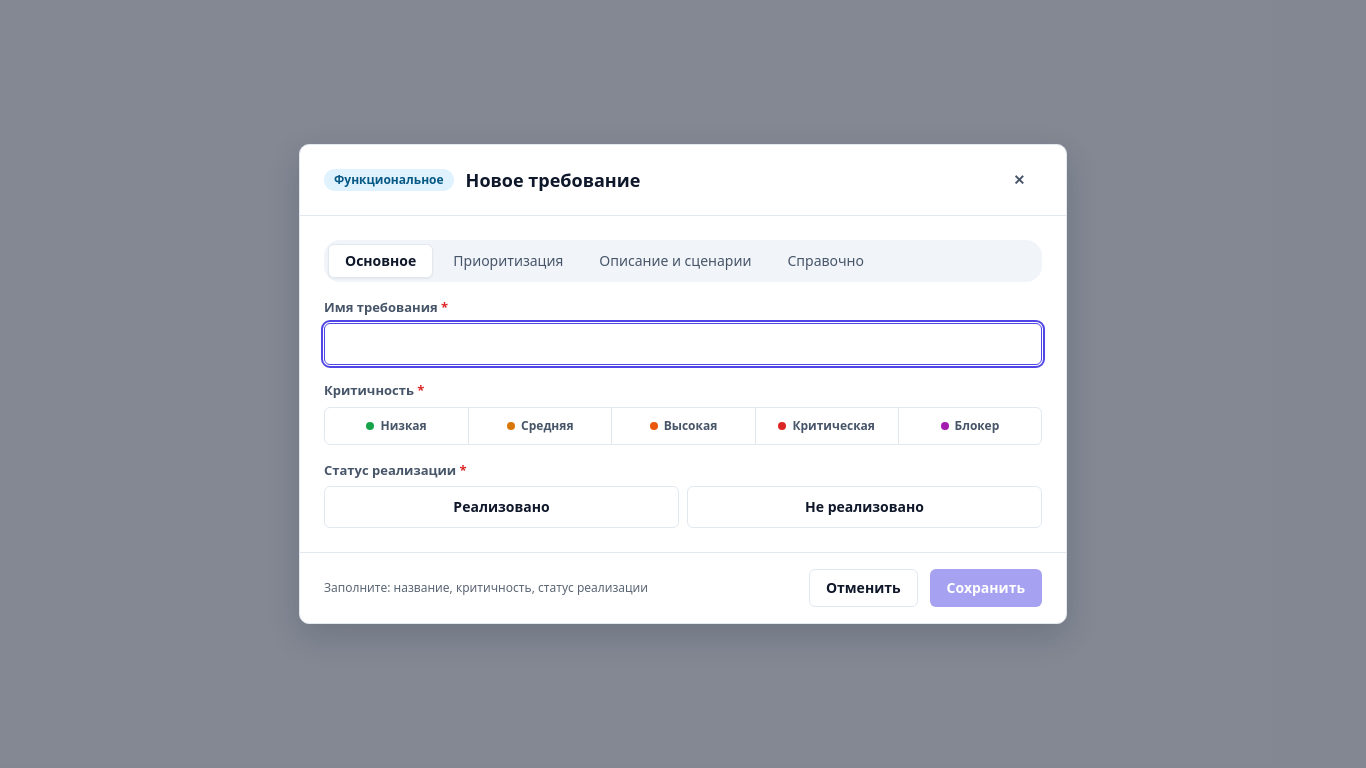
Test: RequirementModal (T-1106, FR-6) › FR-21 · noDefaultCriticality=true (Save button behaviour) › Save enabled only after name + criticality + implemented are all filled
This screenshot has width=1366, height=768.
Type "Дочернее требование" into the field with test id "req-name" at (683, 344), box [324,323,1042,365]
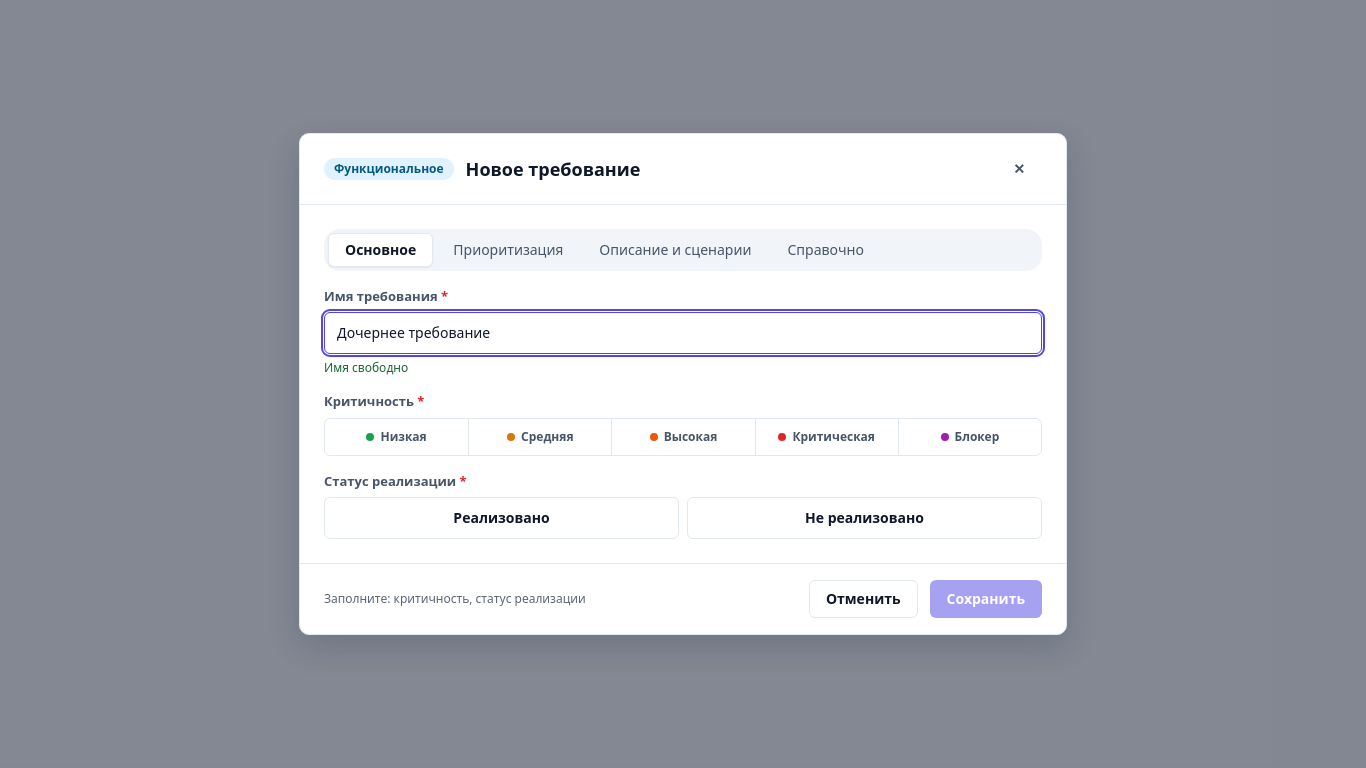
Click the radio button with test id "req-criticality-high" at (683, 437), box [611,419,755,455]
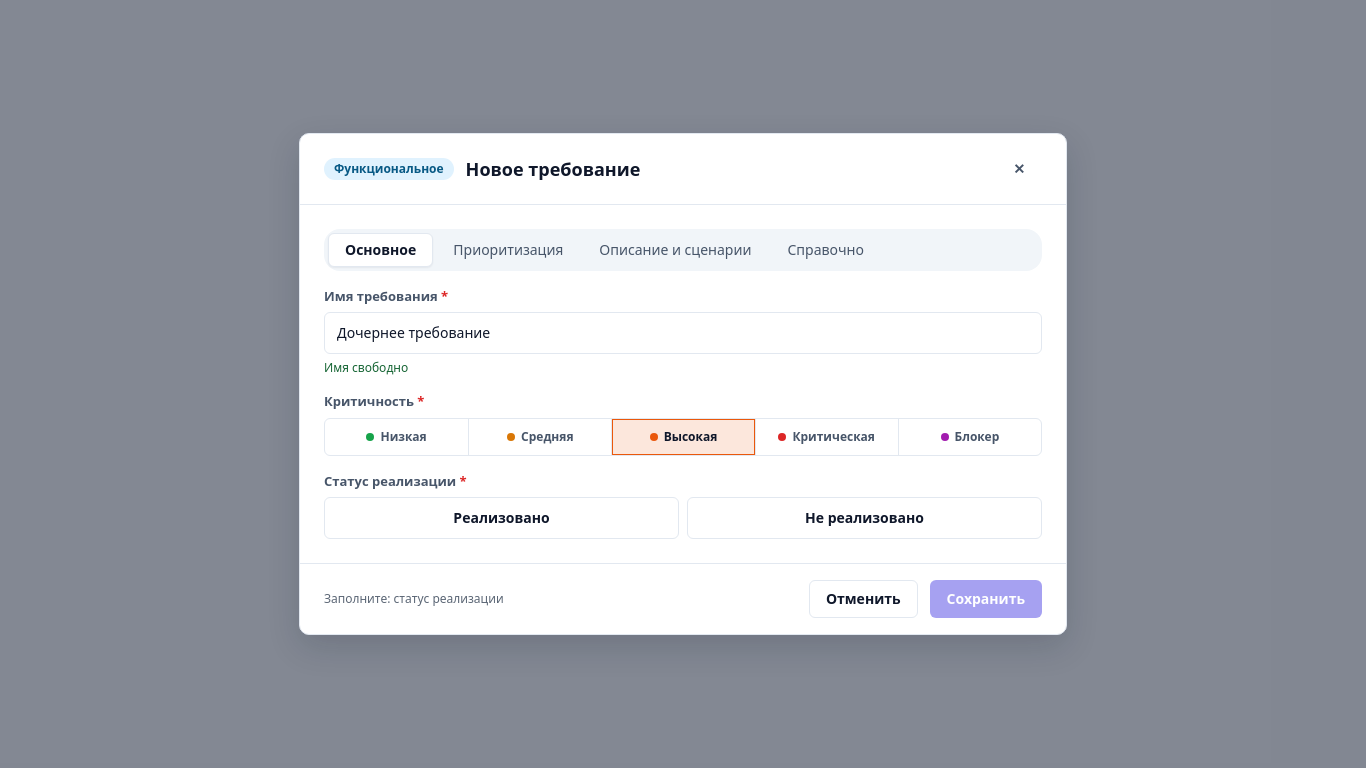
Click the button with test id "req-implemented-yes" at (502, 518), box [324,497,679,539]
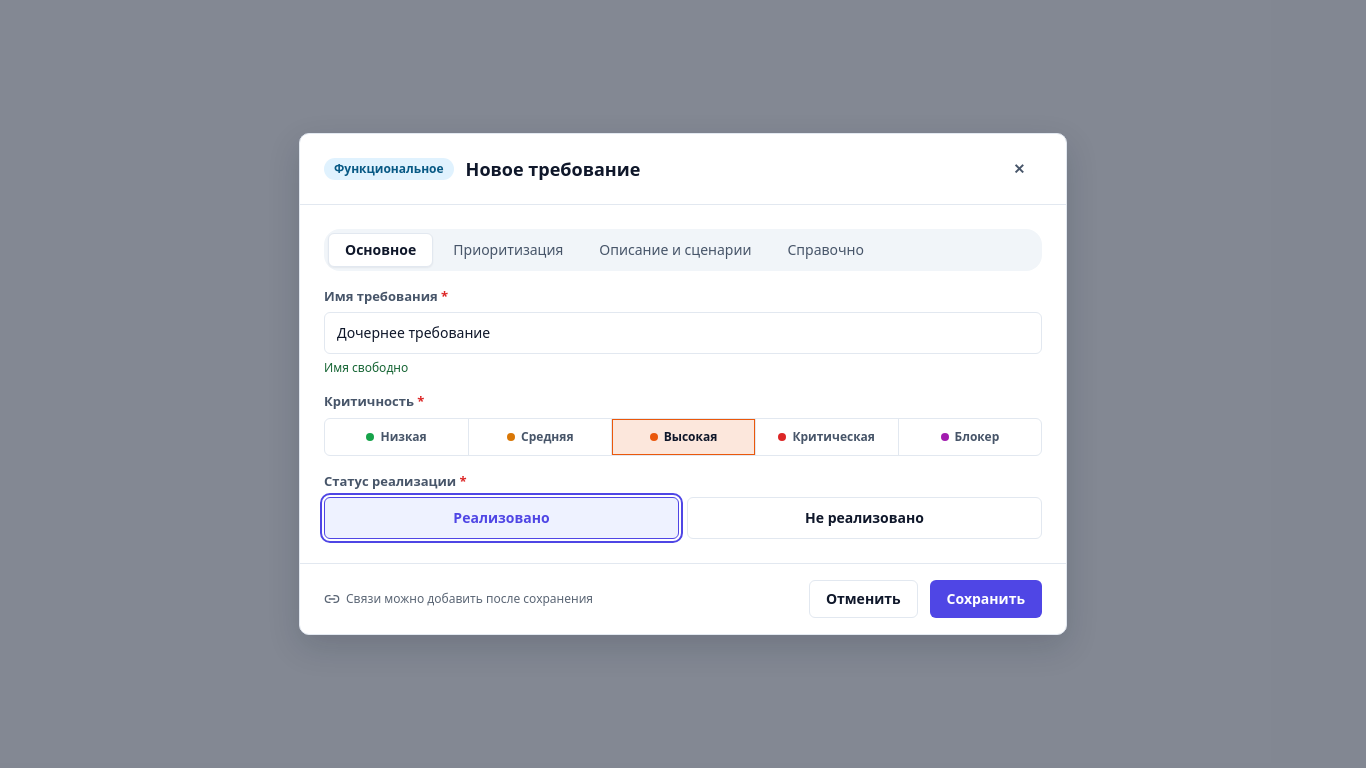
Now the button with test id "req-submit" is enabled, box [930,580,1042,618]
